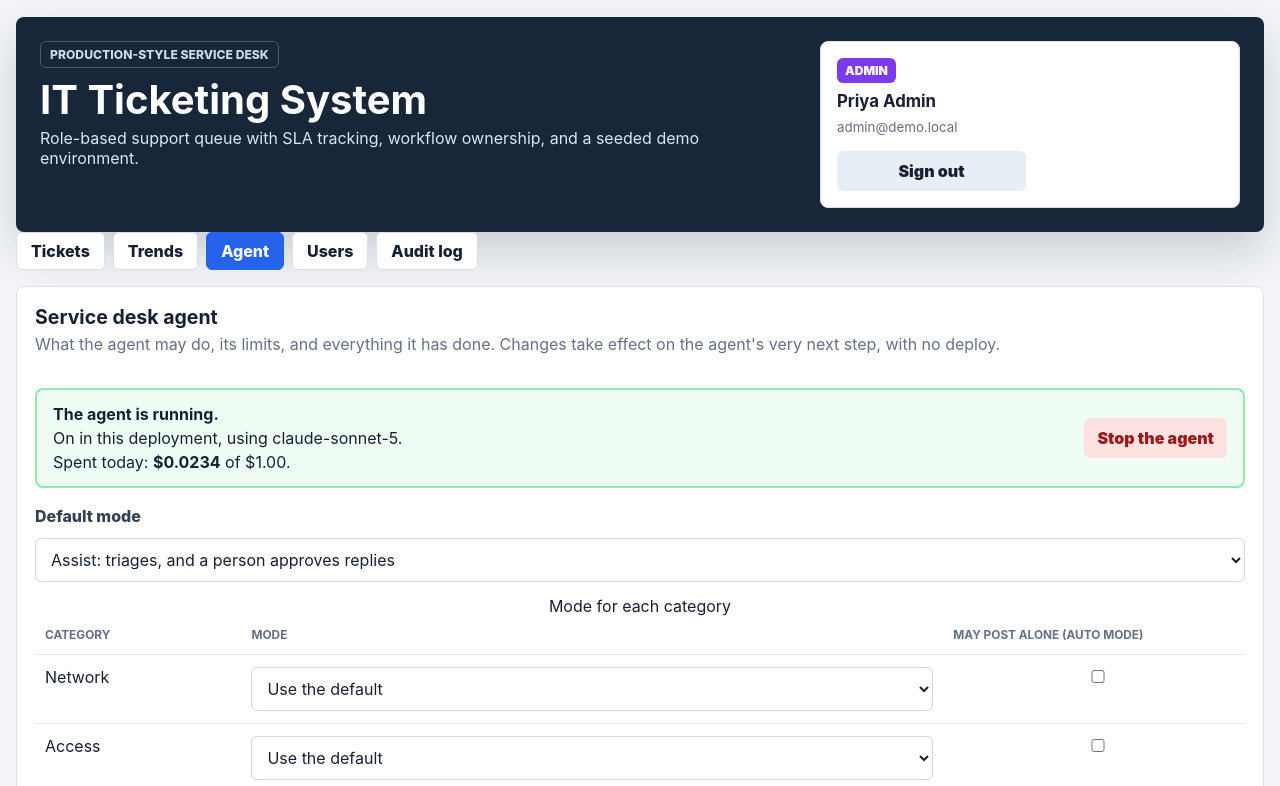
Test case: the settings form › saves everything that was changed, and leaves out categories left on the default
This screenshot has width=1280, height=786.
Expected: the heading "Service desk agent" is shown, [35,305,218,329]
Select "Shadow: records what it would do" in the dropdown labelled "Default mode" at (640,560), box [35,538,1245,582]
(page scrolled)
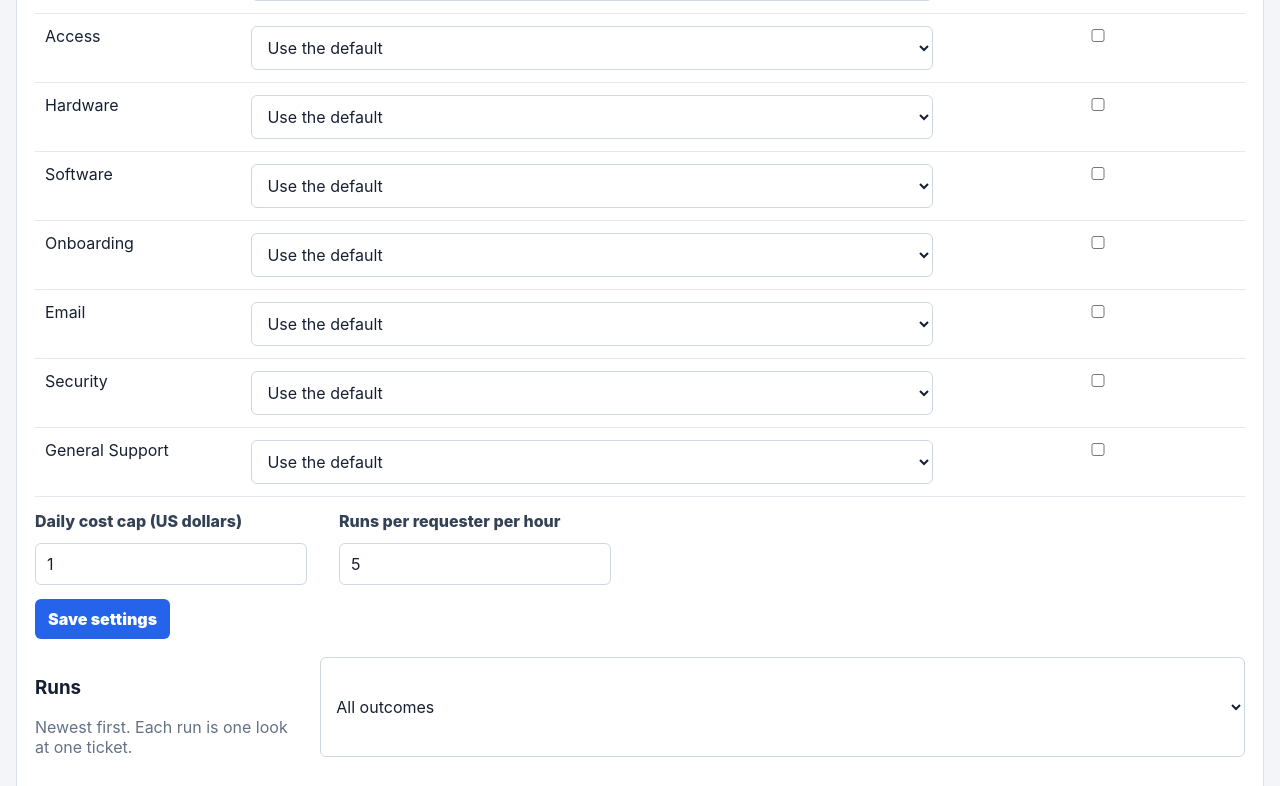
Select "Off: does nothing" in the dropdown named "Mode for Security" at (592,393), box [252,371,933,415]
Select "Assist: triages, and a person approves replies" in the dropdown named "Mode for Email" at (592,324), box [252,302,933,346]
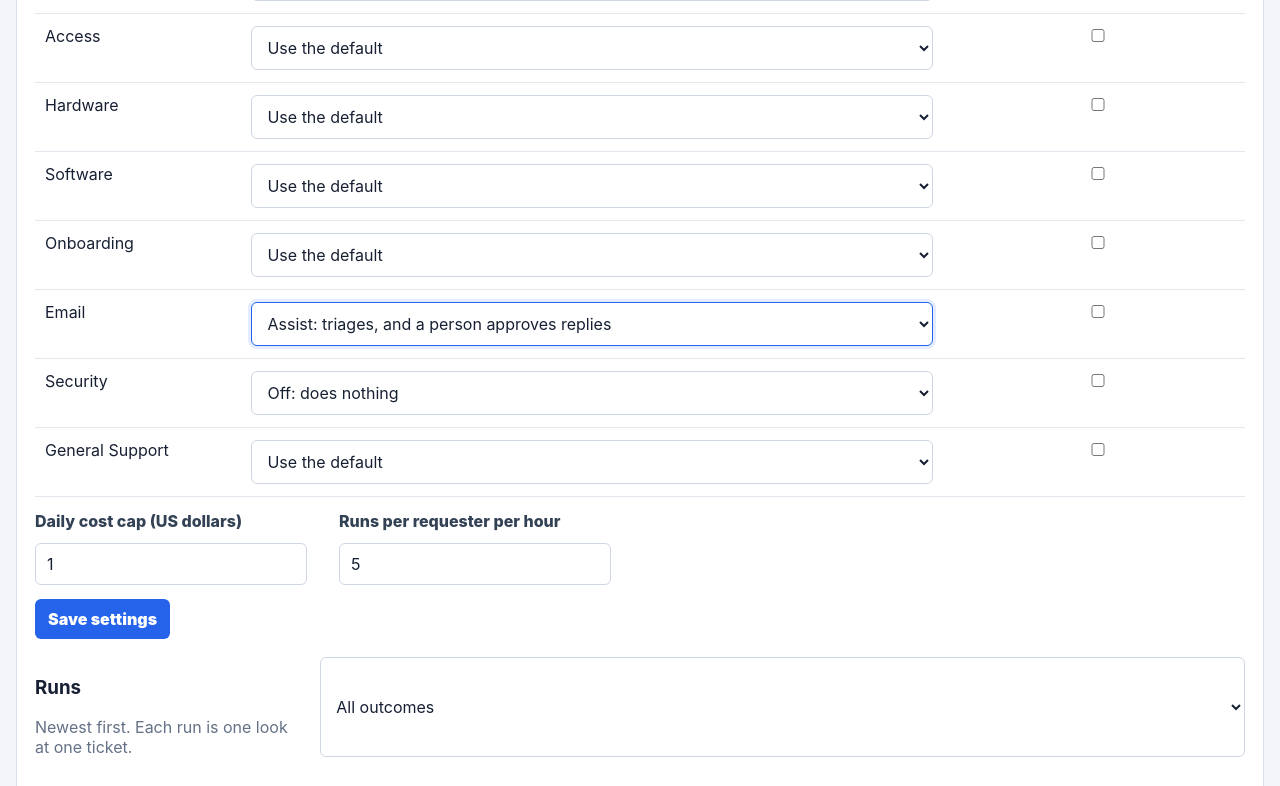
Click the checkbox named "Email may be posted without a person" at (1098,312), box [957,305,1239,318]
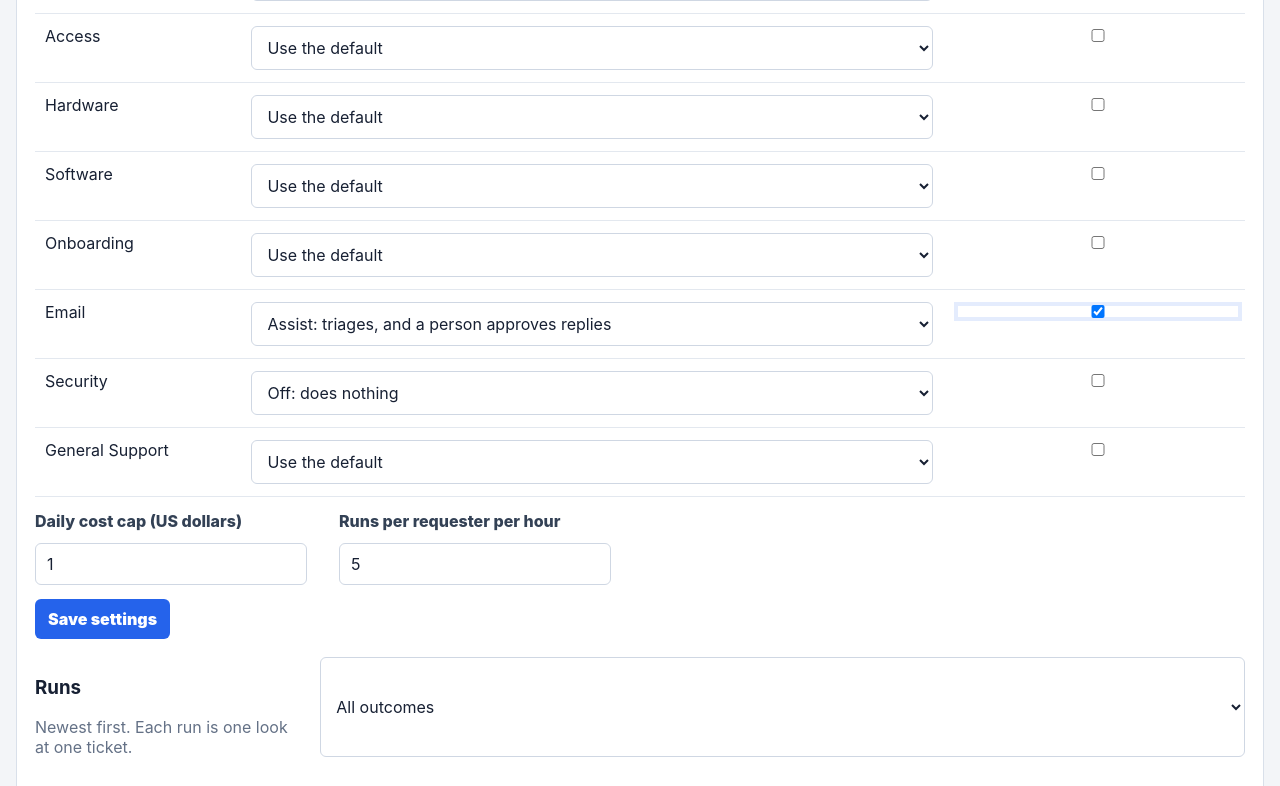
Replace the text in the number field labelled "Daily cost cap (US dollars)" with "0.5" at (171,564), box [35,543,307,585]
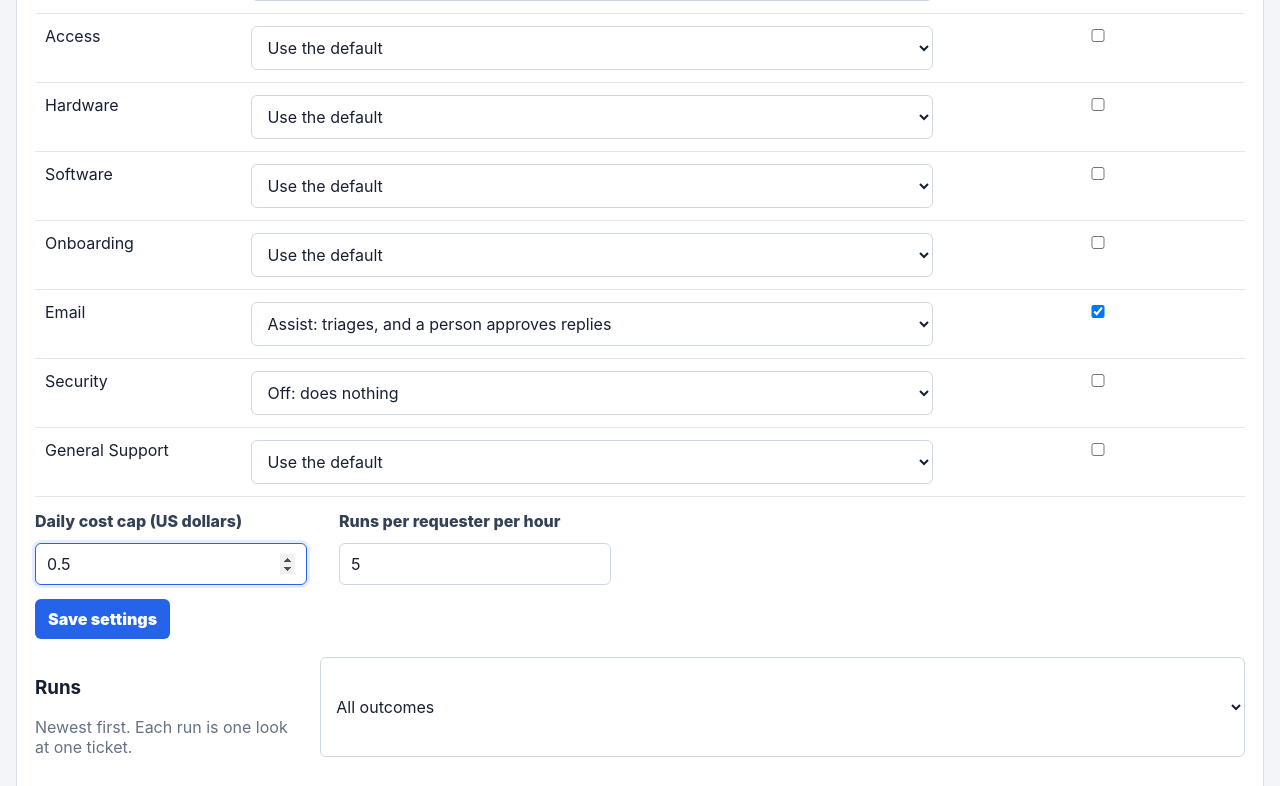
Replace the text in the number field labelled "Runs per requester per hour" with "2" at (475,564), box [339,543,611,585]
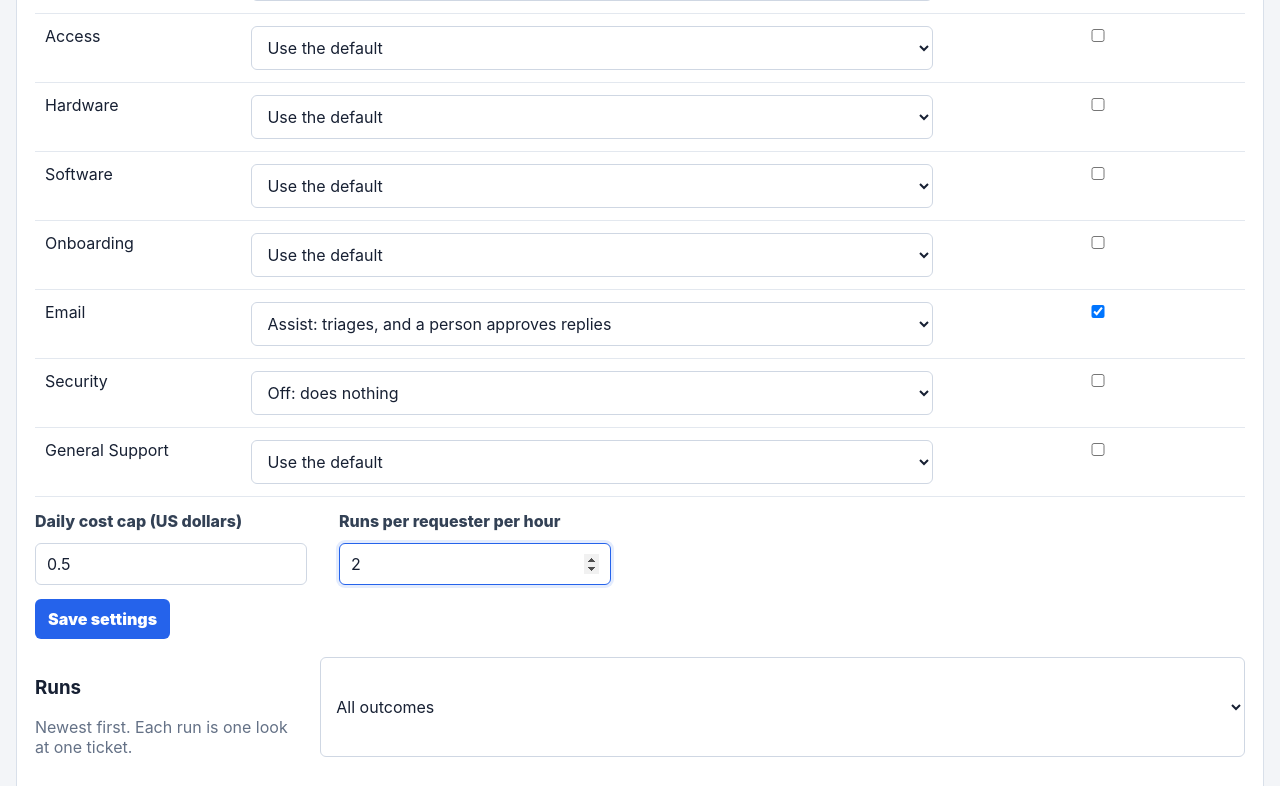
Click the button "Save settings" at (103,619), box [35,599,170,639]
(page scrolled)
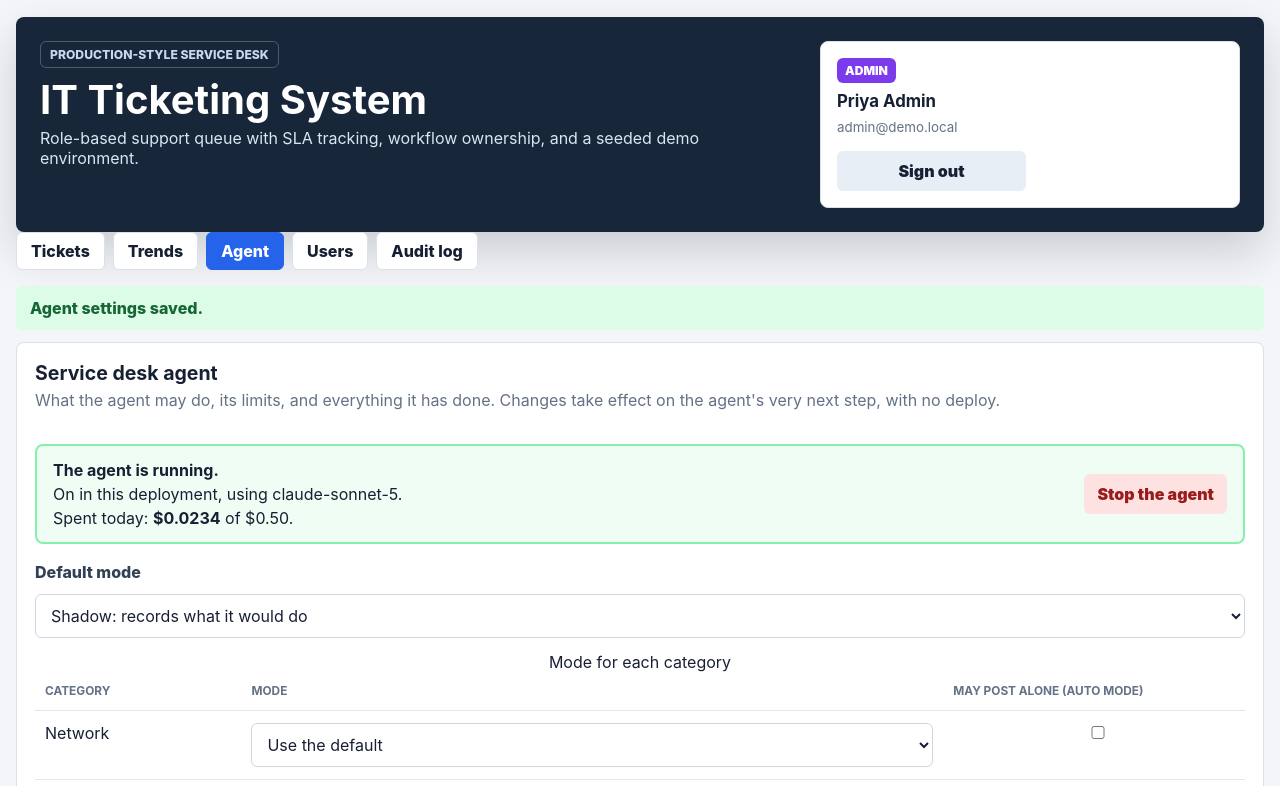
Now the text "Agent settings saved." is shown, box [30,298,203,318]
